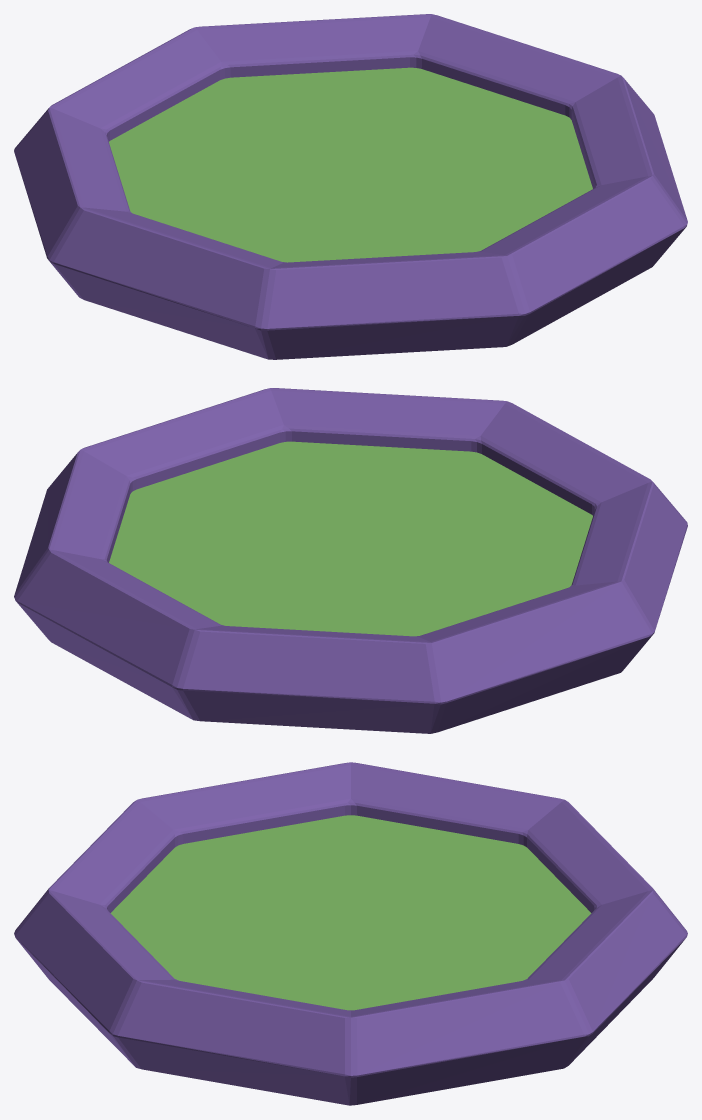
The model's file is item_kit_trampoline.glb.
3 renders of one model, top to bottom at view 1: azimuth 30°, elevation 25°; view 2: azimuth 150°, elevation 25°; view 3: azimuth 270°, elevation 25°, orthographic. The views are drawn at different scales.
Parts seen in each view (by area): view 1: item_kit_trampoline_part_0, item_kit_trampoline_part_1; view 2: item_kit_trampoline_part_0, item_kit_trampoline_part_1; view 3: item_kit_trampoline_part_0, item_kit_trampoline_part_1.
Part boxes in pixels (x1,y1,x2,y2): item_kit_trampoline_part_0: (14, 14, 687, 359); item_kit_trampoline_part_1: (109, 67, 592, 262); item_kit_trampoline_part_0: (14, 388, 687, 733); item_kit_trampoline_part_1: (109, 441, 592, 636); item_kit_trampoline_part_0: (14, 762, 687, 1105); item_kit_trampoline_part_1: (110, 815, 591, 1010).
Size of the model in its own units: 1.17 by 0.1685 by 1.17.
